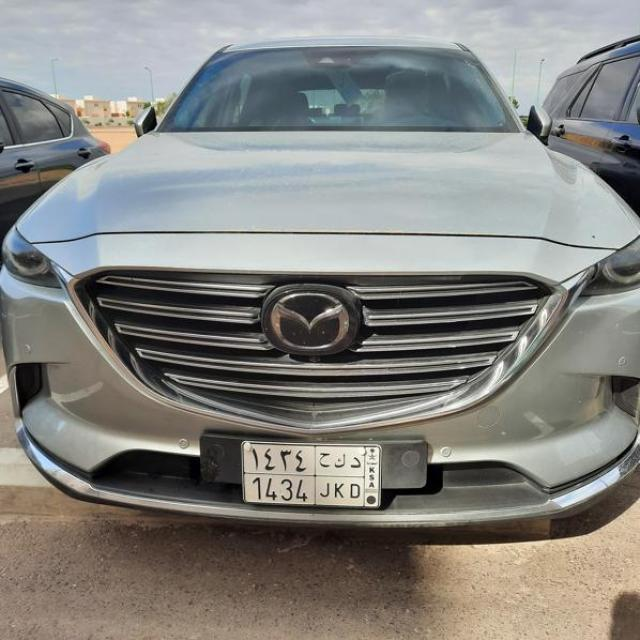license_plate: (242, 442, 381, 506)
